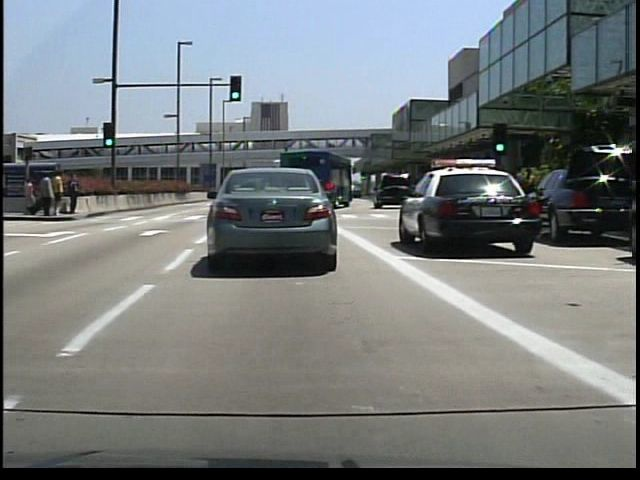person: (64, 170, 82, 216), (38, 171, 55, 216), (19, 173, 37, 214), (51, 169, 64, 218)
